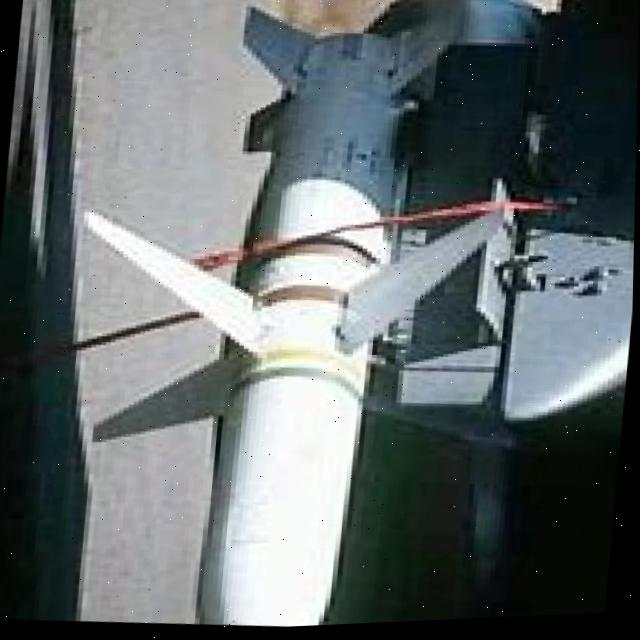missile: (45, 0, 527, 638)
